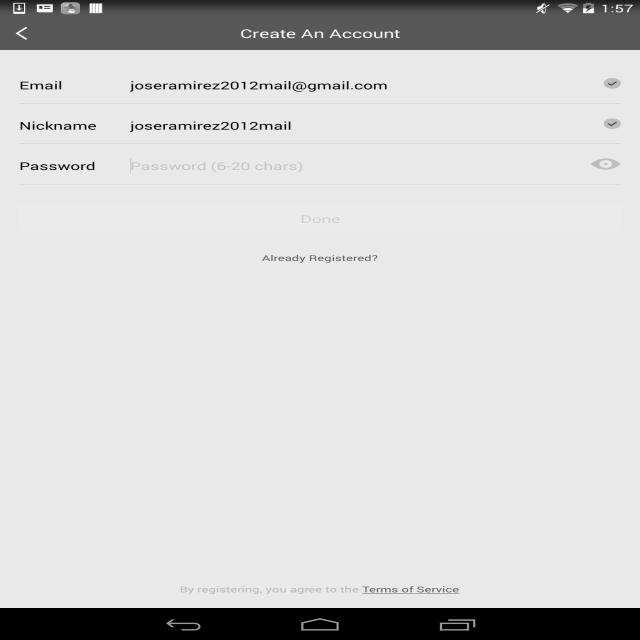Button: (19, 206, 621, 232)
CheckBox: (590, 158, 621, 170)
EditText: (130, 112, 604, 135), (130, 72, 604, 94), (130, 153, 591, 175)
ImageView: (8, 22, 45, 45), (604, 78, 621, 89), (604, 118, 621, 129)
TextView: (180, 584, 460, 594), (262, 246, 377, 270), (240, 25, 400, 41), (19, 112, 130, 135), (19, 72, 130, 94), (19, 153, 130, 175)
